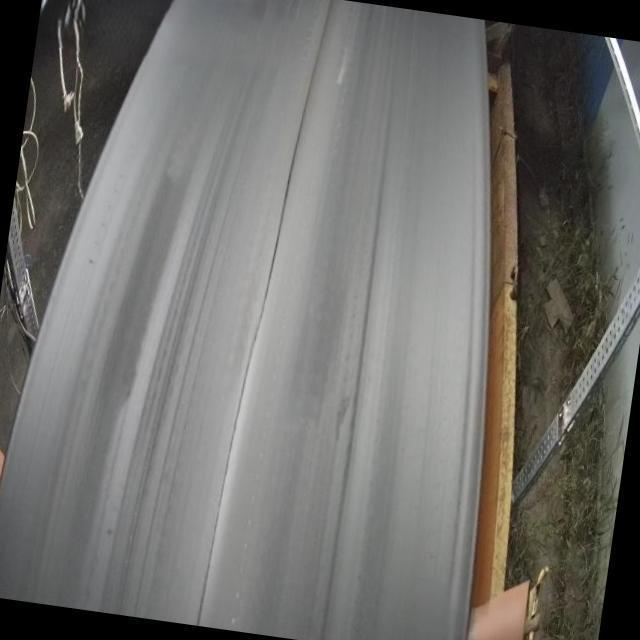Tear: (190, 0, 337, 632)
